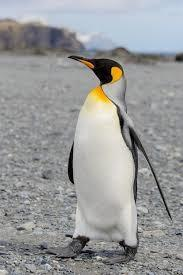king: (51, 36, 160, 275)
